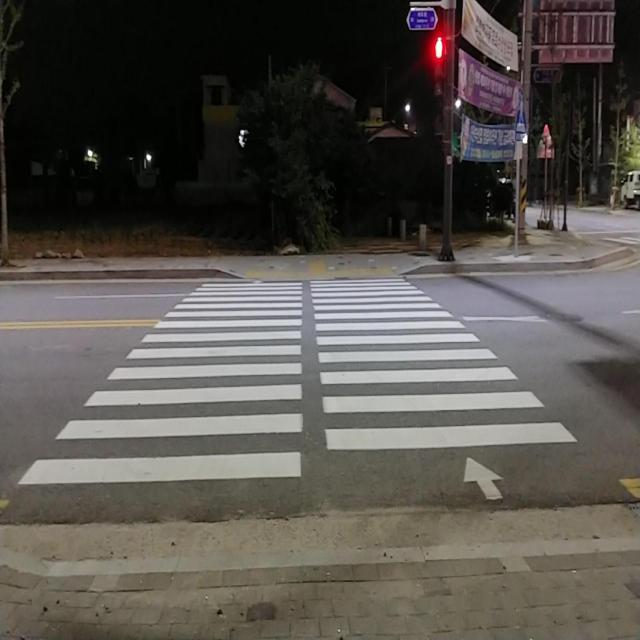빨간불: (425, 33, 448, 108)
횡단보도: (13, 276, 582, 509)
